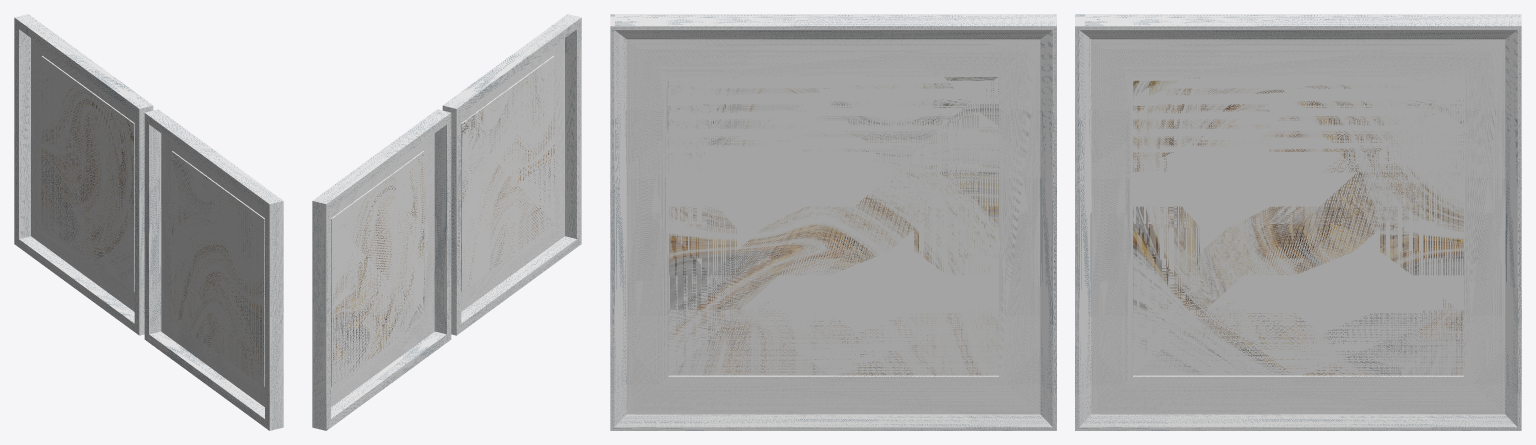
The model's file is art32.dae.
3 renders of one model, left to right at view 1: azimuth 30°, elevation 25°; view 2: azimuth 150°, elevation 25°; view 3: azimuth 270°, elevation 25°, orthographic. The views are drawn at different scales.
Visible parts, largest first — view 1: group_0 (×5), group_1 (×5); view 2: group_1 (×5), group_0 (×5); view 3: group_0 (×4), group_1 (×4).
Boxes of the visible parts, x1,y1,x2,y2 form: group_0 (×5): (144,109,283,430); group_1 (×5): (14,14,153,335); group_1 (×5): (312,109,451,430); group_0 (×5): (442,14,581,335); group_0 (×4): (610,14,1056,430); group_1 (×4): (1075,14,1521,430).
Size of the model in its own units: 1.38 by 43.39 by 21.26.
5 materials, 2 textured.
